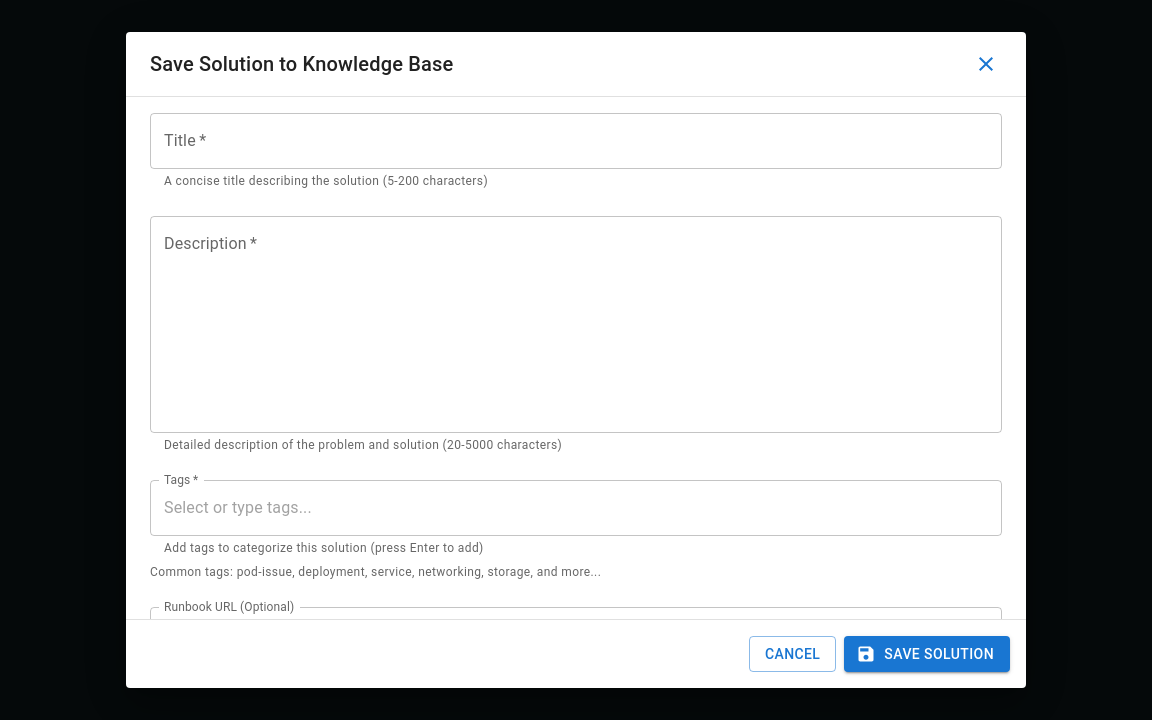
Test case: SolutionSubmitDialog › Field Validation › should show error for description that is too short
Type "Too short" into the text box labelled "Description *" at (576, 324), box [164,232,988,416]
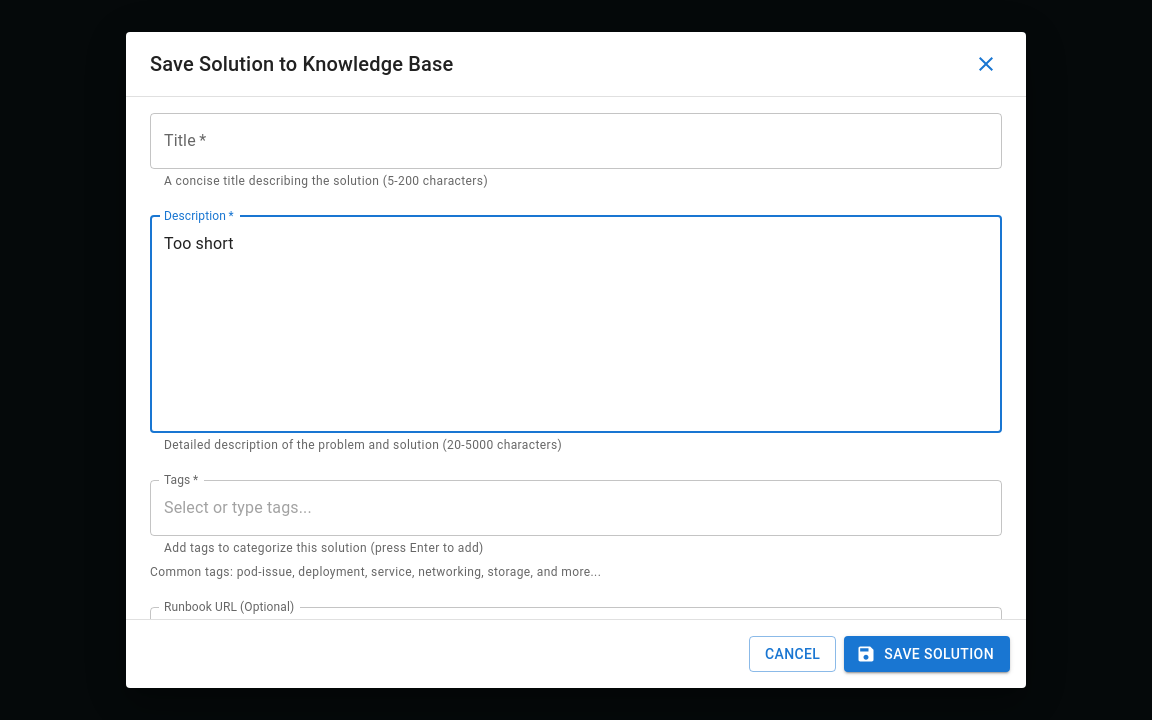
Click the button "Save Solution" at (927, 654), box [844,636,1010,672]
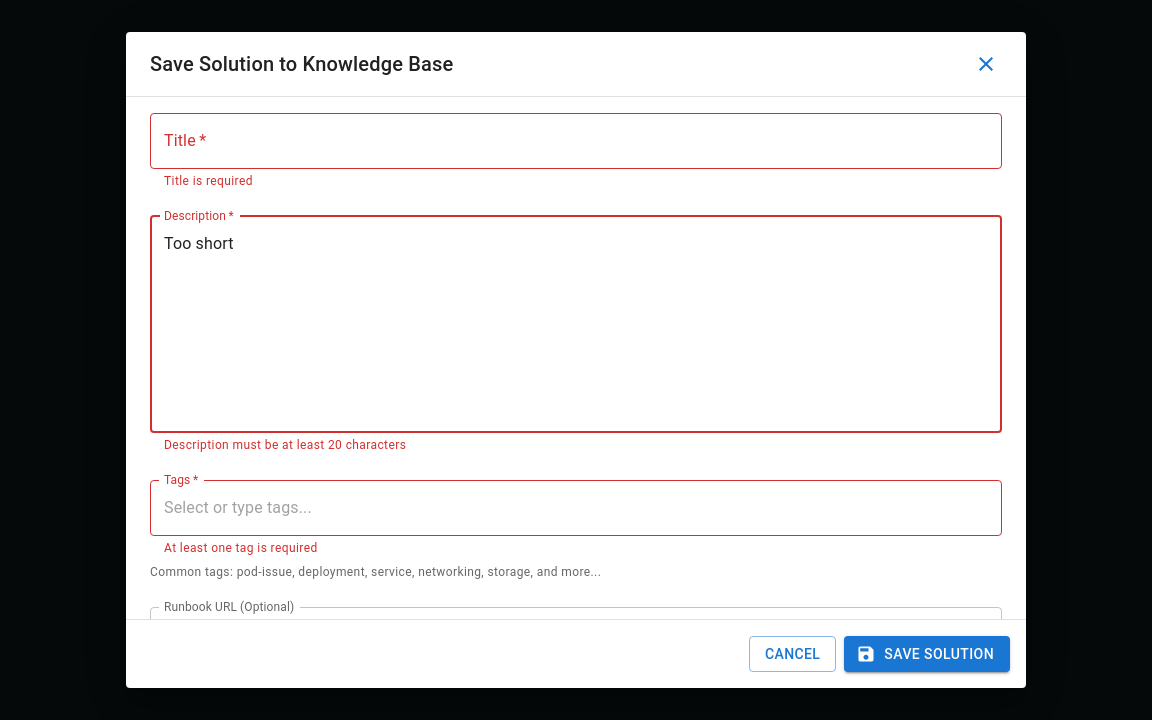
Check: the text "Description must be at least 20 characters" is shown, box [164,438,406,452]
